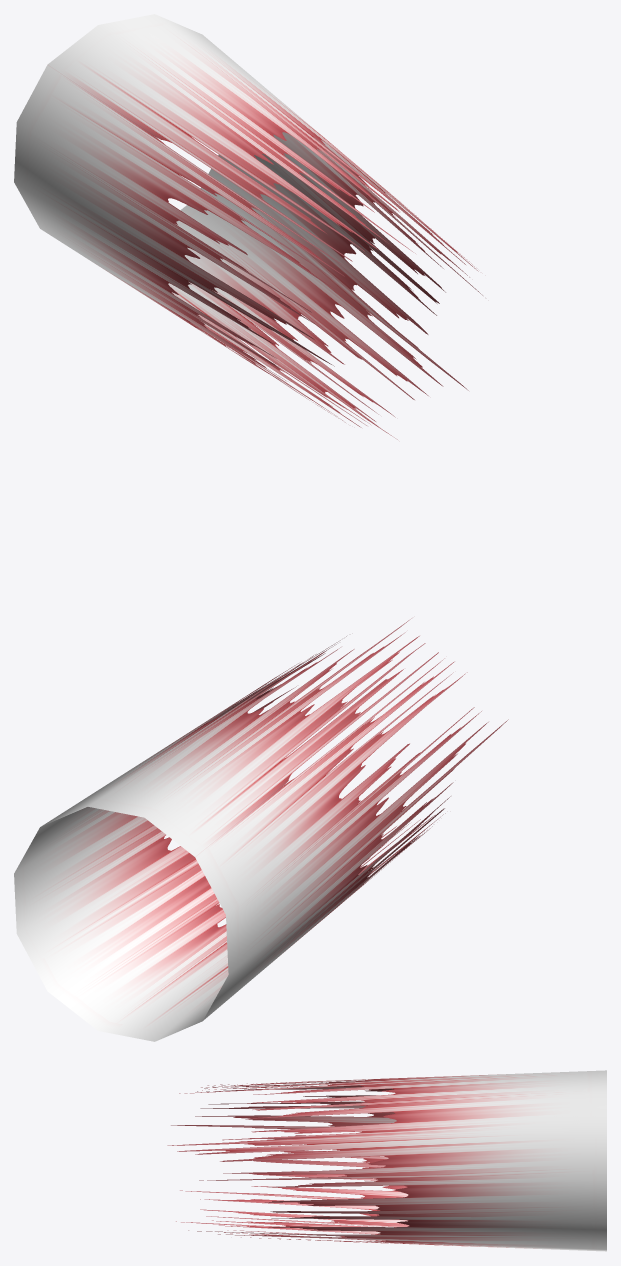
File: Effect3.obj
The picture shows the model from 3 angles, top to bottom: view 1: azimuth 30°, elevation 25°; view 2: azimuth 150°, elevation 25°; view 3: azimuth 270°, elevation 25°; orthographic projection. The views are drawn at different scales.
Parts seen in each view (by area): view 1: Cylinder001; view 2: Cylinder001; view 3: Cylinder001.
Part boxes in pixels (<box>): Cylinder001: <box>14,14,482,439</box>; Cylinder001: <box>14,618,508,1041</box>; Cylinder001: <box>167,1070,606,1251</box>.
Size of the model in its own units: 31.76 by 31.76 by 104.
1 material, 1 textured.
